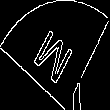M_SW: (31, 21, 79, 89)
